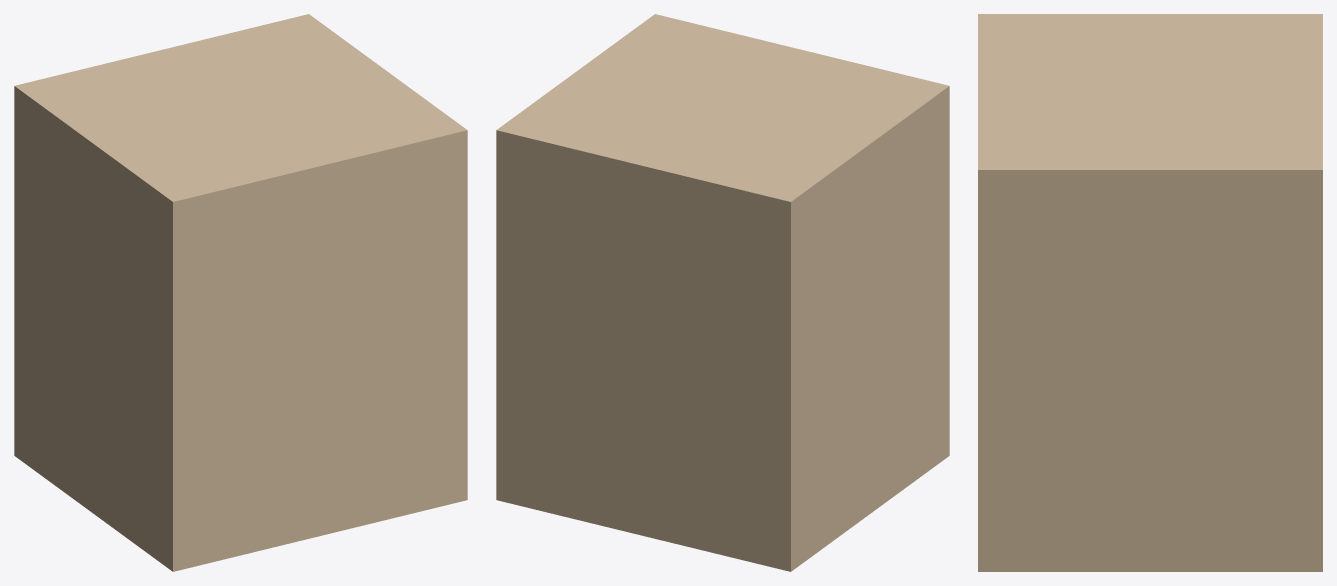
3 renders of one model, left to right at view 1: azimuth 30°, elevation 25°; view 2: azimuth 150°, elevation 25°; view 3: azimuth 270°, elevation 25°, orthographic. The views are drawn at different scales.
Visible parts, largest first — view 1: carcass; view 2: carcass; view 3: carcass.
Boxes of the visible parts, x1,y1,x2,y2 form: carcass: [14, 14, 467, 571]; carcass: [496, 14, 949, 571]; carcass: [978, 14, 1322, 571].
Bounding box in the file's own units: 0.6 × 0.72 × 0.56.
